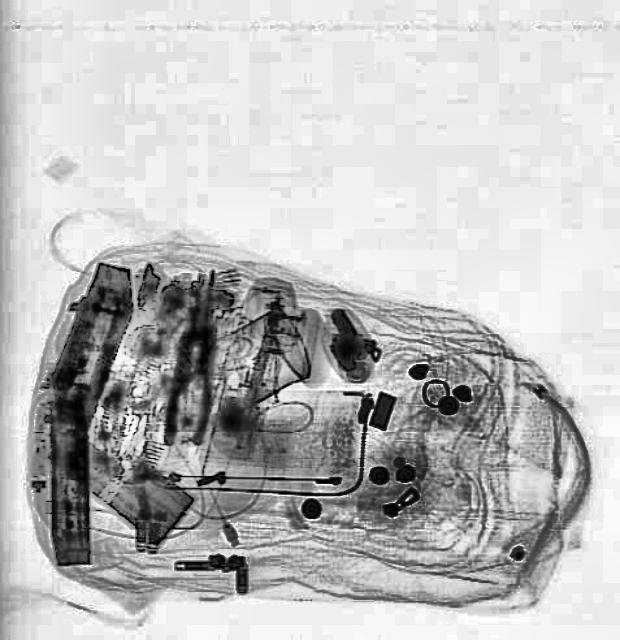Pliers: (158, 266, 228, 448)
